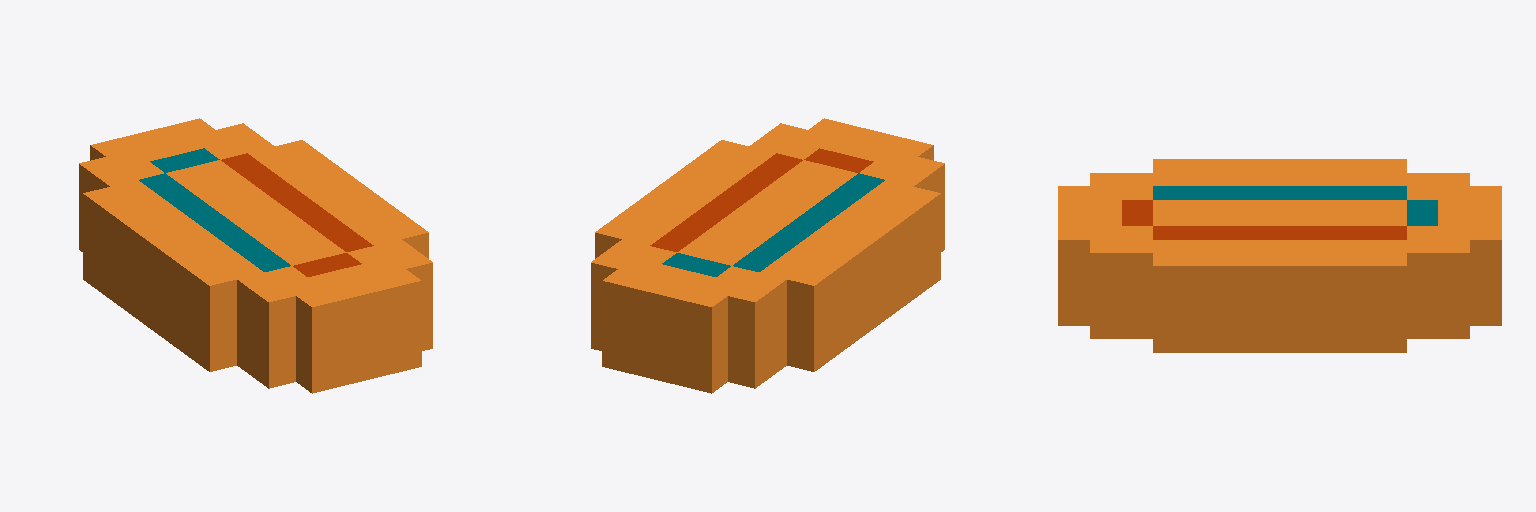
3 renders of one model, left to right at view 1: azimuth 30°, elevation 25°; view 2: azimuth 150°, elevation 25°; view 3: azimuth 270°, elevation 25°, orthographic.
Visible parts, largest first — view 1: coin_underground_1; view 2: coin_underground_1; view 3: coin_underground_1.
Part boxes in pixels (x1,y1,x2,y2): coin_underground_1: (79, 118, 432, 393); coin_underground_1: (591, 118, 944, 393); coin_underground_1: (1058, 159, 1501, 352).
Bounding box in the file's own units: 80 × 30 × 140.
Materials: 3 (3 with a texture image).